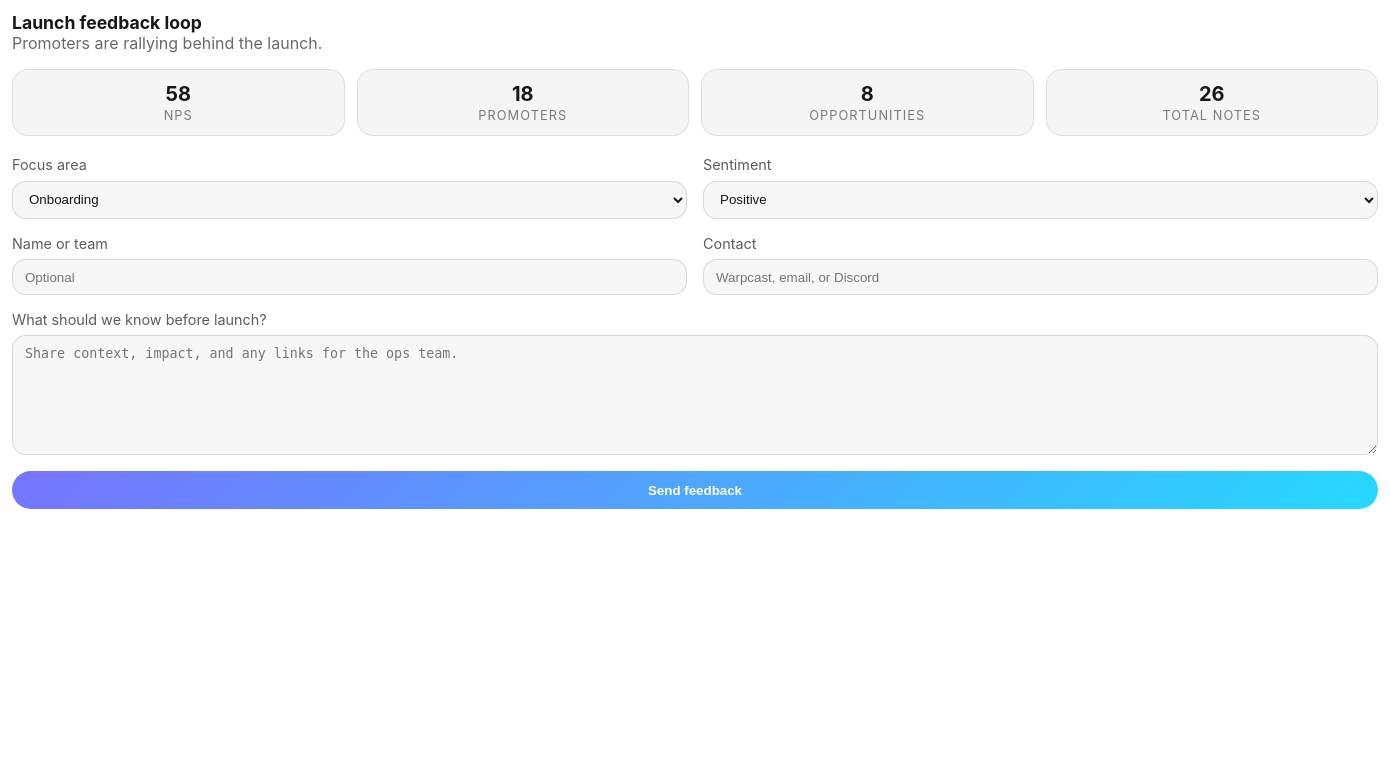
it: FeedbackPanel › renders stats and prevents submission when message is short
Expected: the heading "Launch feedback loop" is shown, [12,12,202,33]
Expected: the text "Promoters are rallying behind the launch." is shown, [12,33,322,53]
Select "Matching" in the dropdown labelled "Focus area": (350, 200) [12,181,687,219]
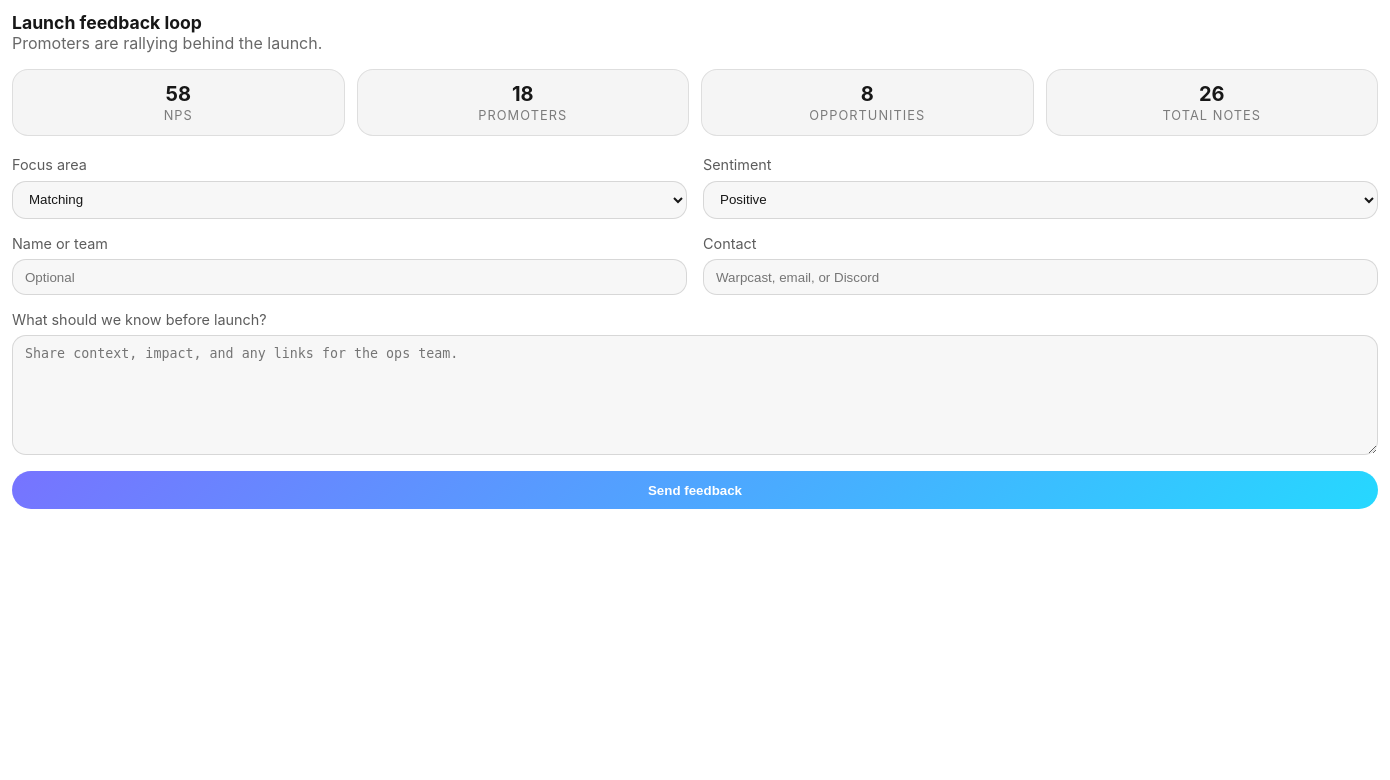
In the text box labelled "What should we know before launch?": (695, 395) [12,335,1378,455], type "short"
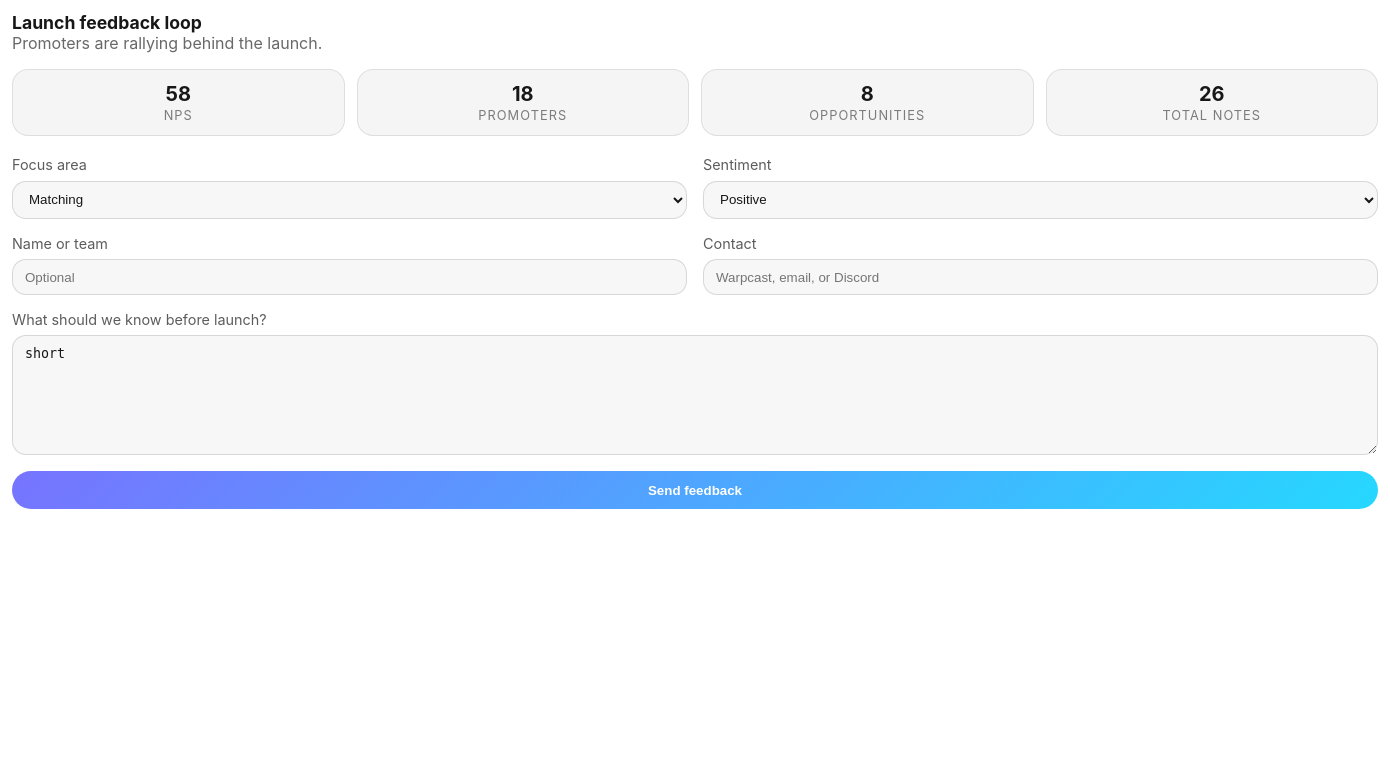
Click the button "Send feedback": (695, 490) [12,471,1378,509]
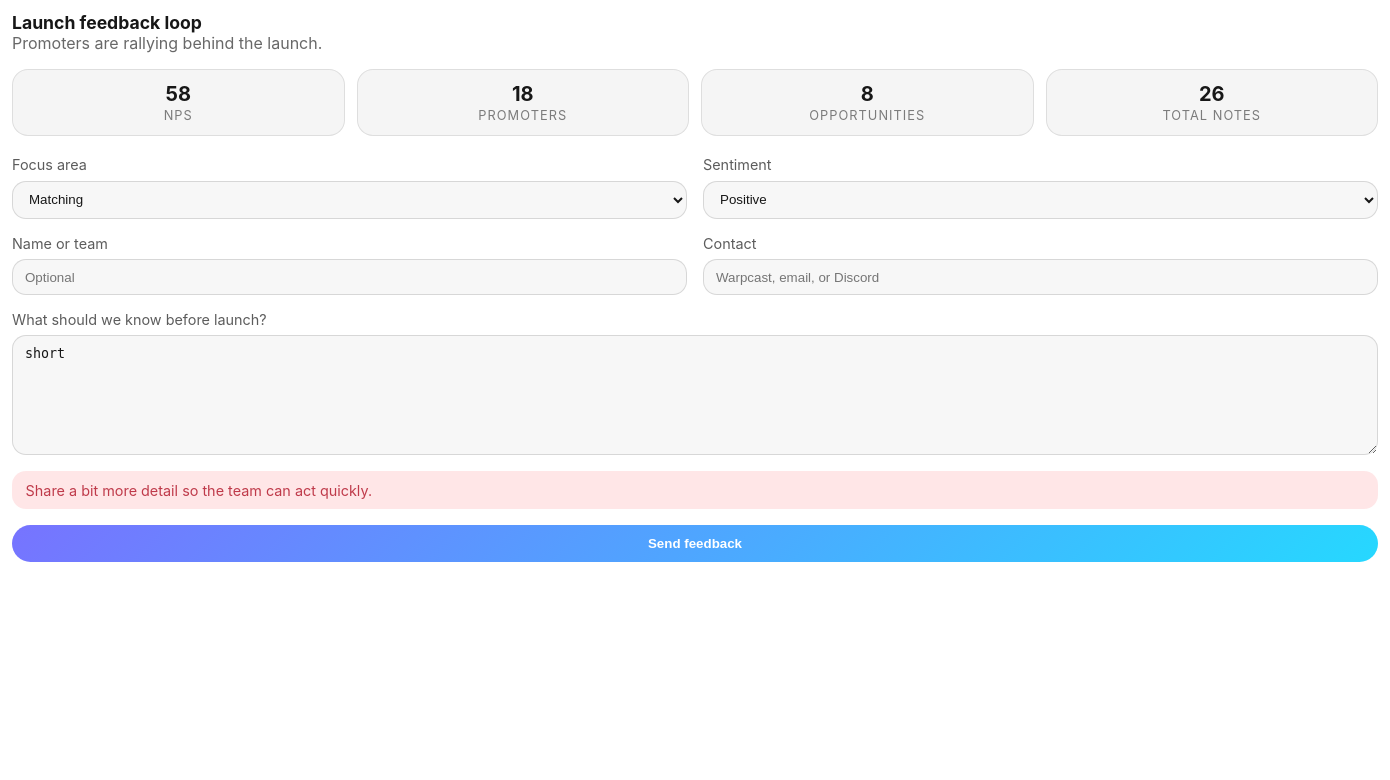
Expected: the text "Share a bit more detail so the team can act quickly." is shown, [12,471,1378,509]
